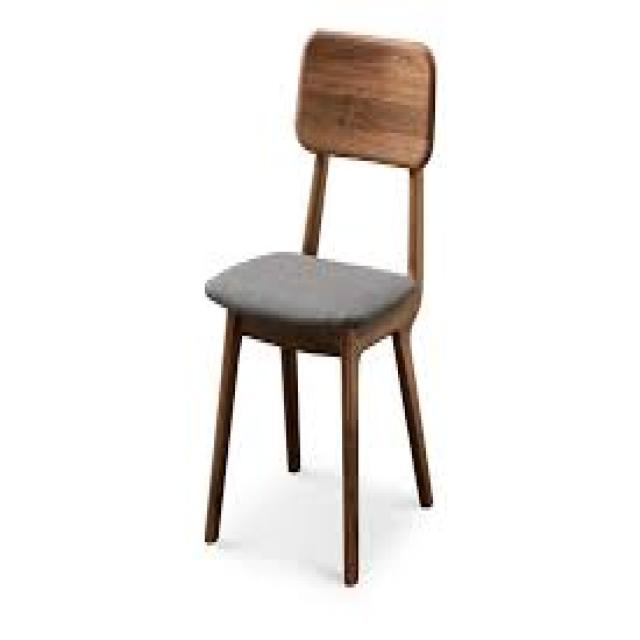chair: (169, 5, 484, 602)
